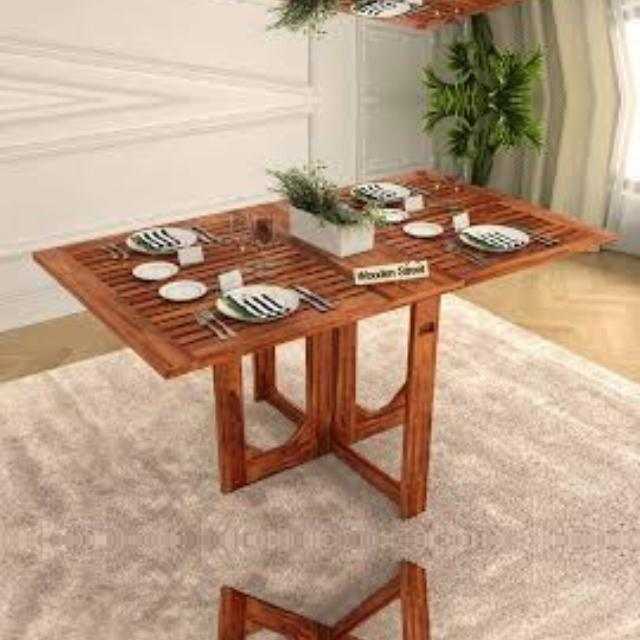obstacle: (38, 182, 624, 508), (38, 572, 624, 640), (38, 0, 624, 15)
